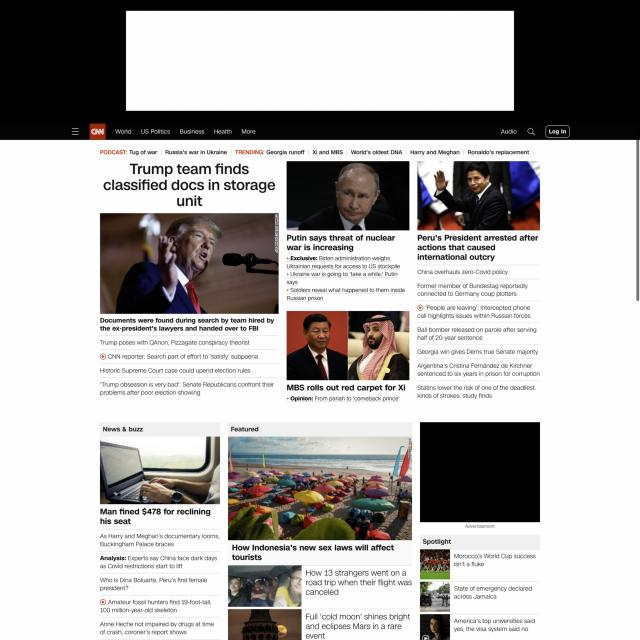content: (93, 145, 546, 409)
logo: (88, 122, 106, 140)
navigation: (115, 126, 260, 138), (70, 125, 81, 136)
